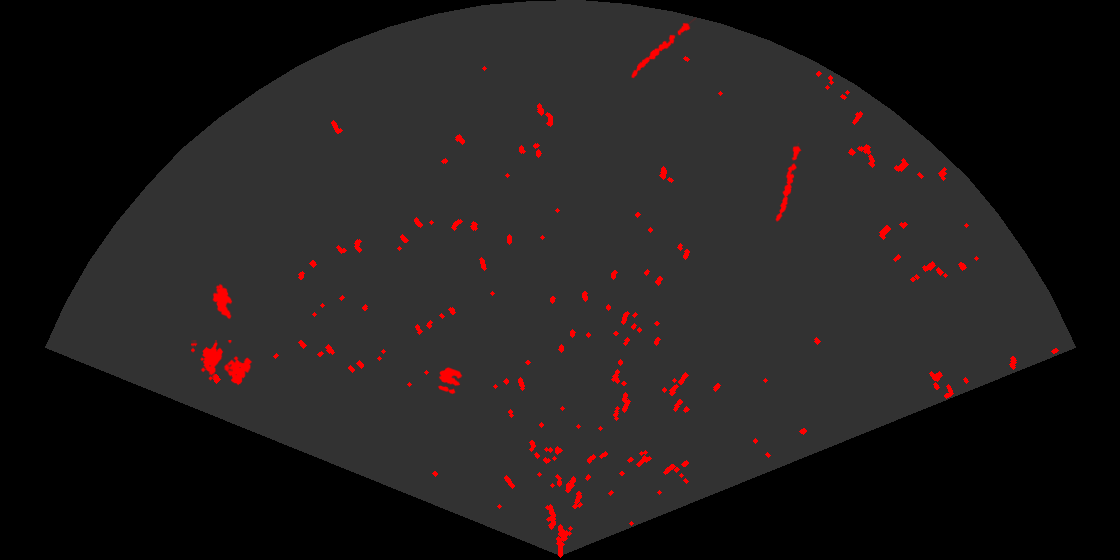AUV: (211, 282, 234, 321)
ball: (436, 366, 464, 396)
cage: (191, 340, 254, 387)
chain: (630, 17, 696, 80), (774, 143, 803, 224)
